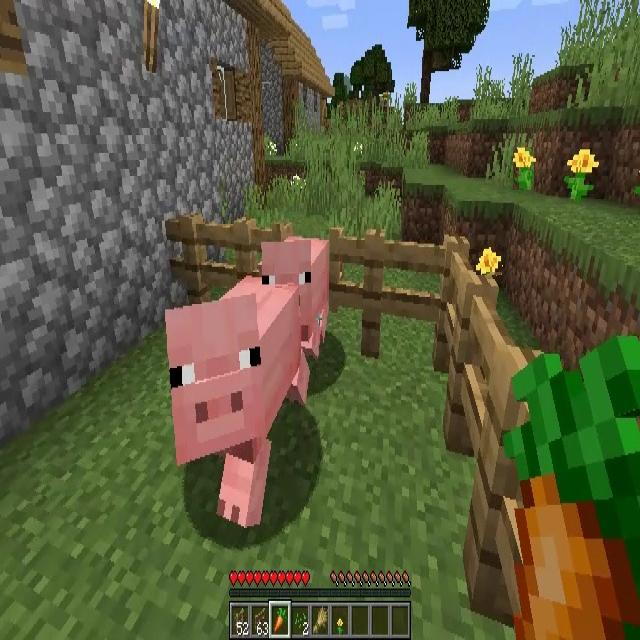flower: (568, 144, 600, 201), (513, 147, 534, 190), (477, 245, 502, 275)
pig: (169, 290, 313, 520), (264, 235, 329, 357)
